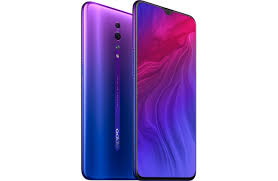oppo: (75, 1, 200, 179)
